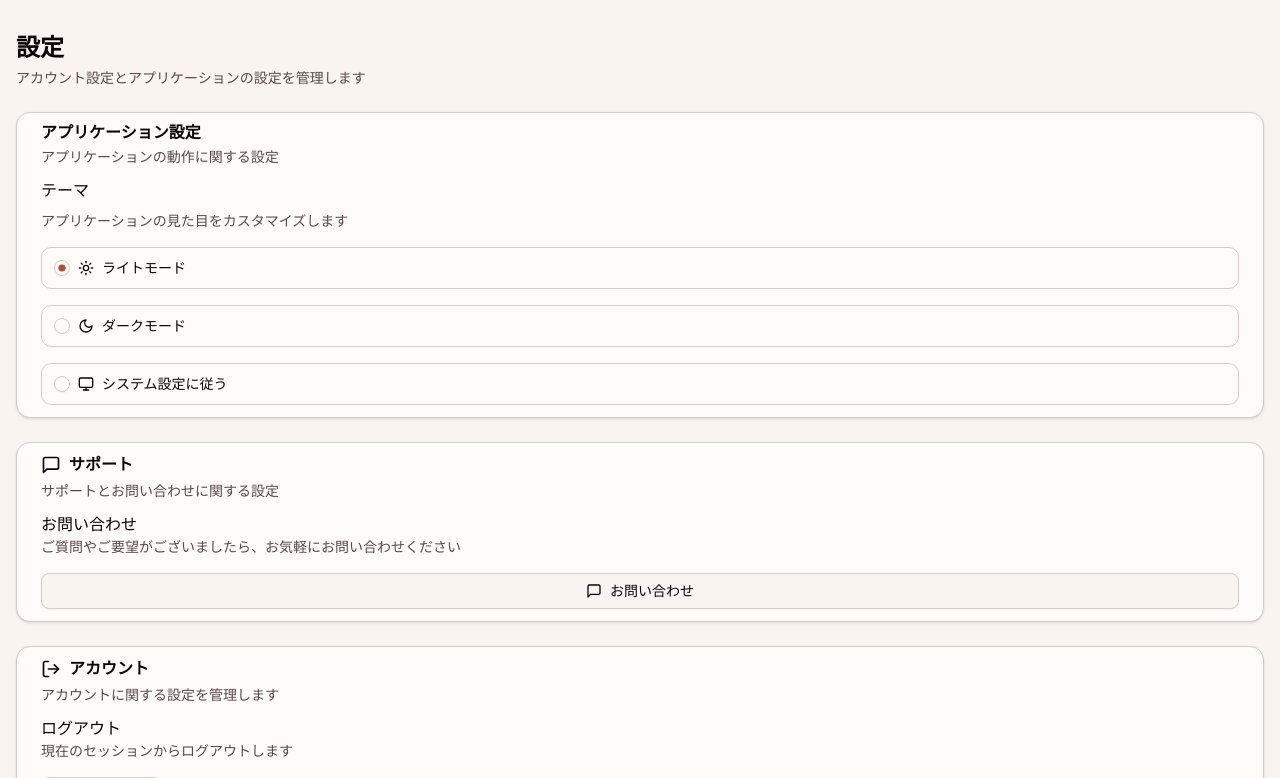
SettingsPresentation › should show loading state during theme update
This screenshot has width=1280, height=778.
Click the radio button named "ダークモード" next to "ダークモード".
click(62, 326)  # box [54,318,70,334]
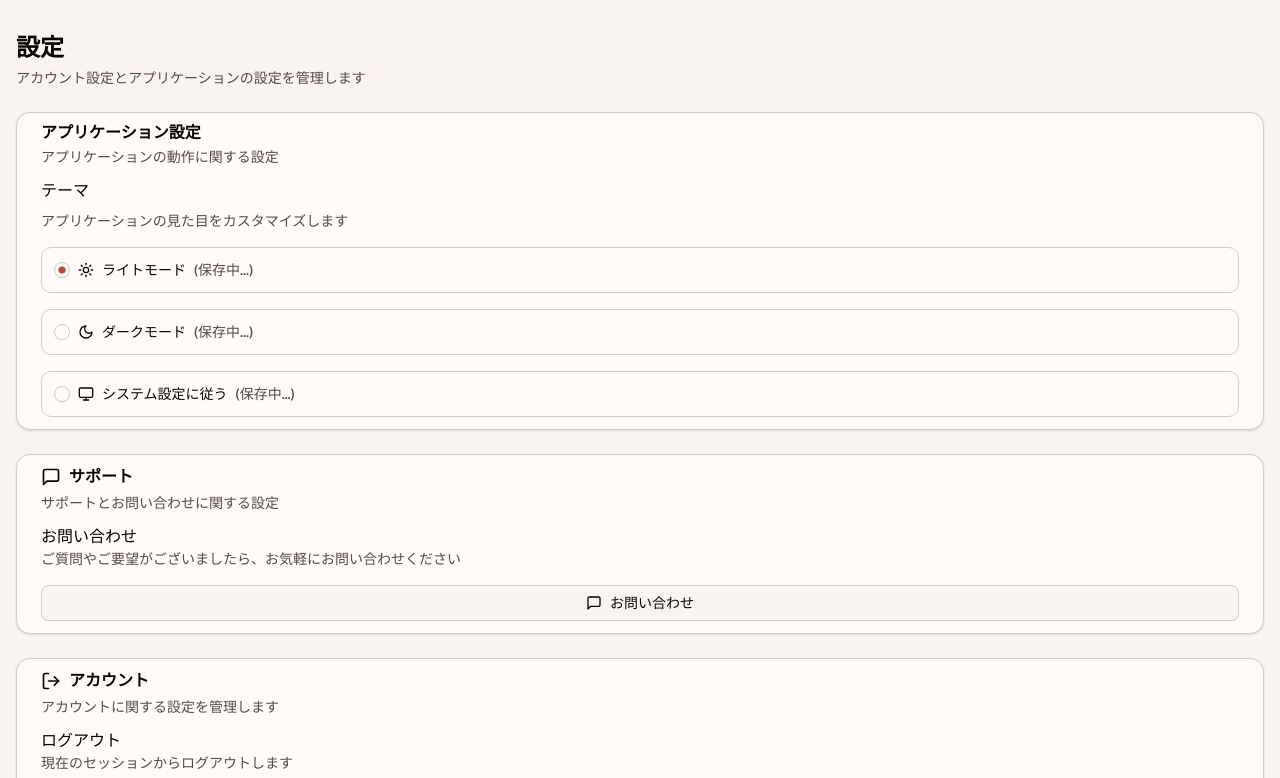
Expected: the text "(保存中...)" is shown 3 times, [194,260,253,280]; [194,322,253,342]; [236,384,295,404]
